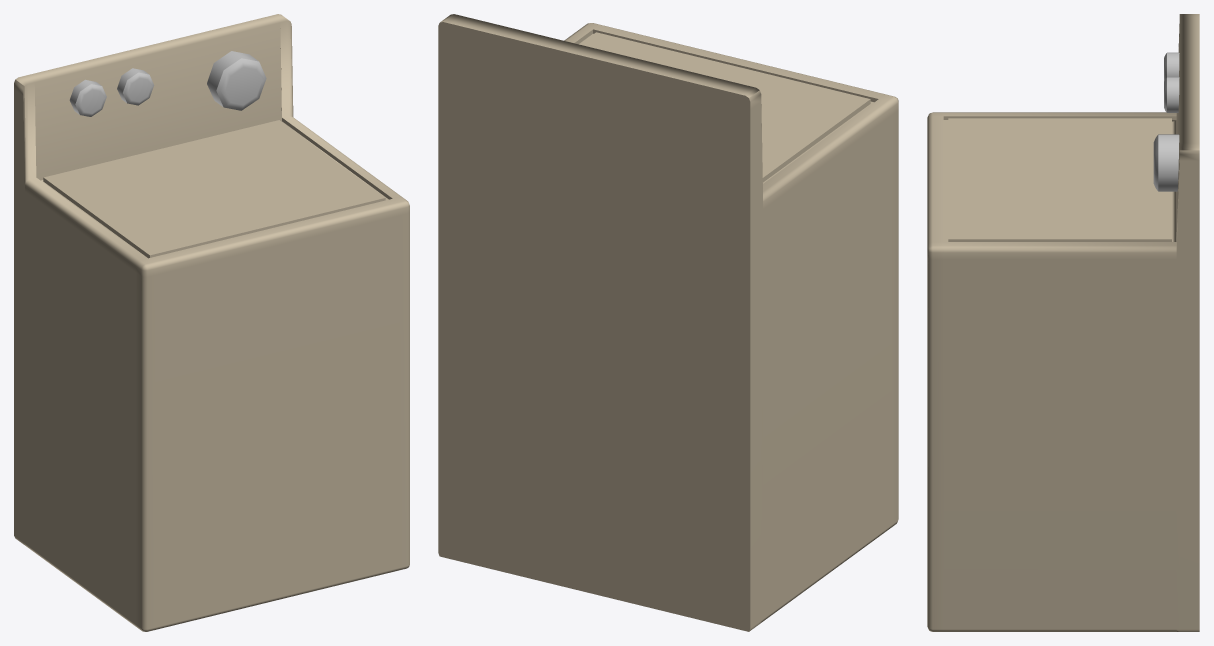
File: washer.fbx
The picture shows the model from 3 angles, left to right: view 1: azimuth 30°, elevation 25°; view 2: azimuth 150°, elevation 25°; view 3: azimuth 270°, elevation 25°; orthographic projection. The views are drawn at different scales.
Parts seen in each view (by area): view 1: washer_high:washer; view 2: washer_high:washer; view 3: washer_high:washer.
Boxes of the visible parts, bbox=[...] form: washer_high:washer: bbox=[14, 14, 409, 631]; washer_high:washer: bbox=[438, 14, 898, 631]; washer_high:washer: bbox=[927, 14, 1199, 631].
Size of the model in its own units: 62.23 by 102 by 52.02.
